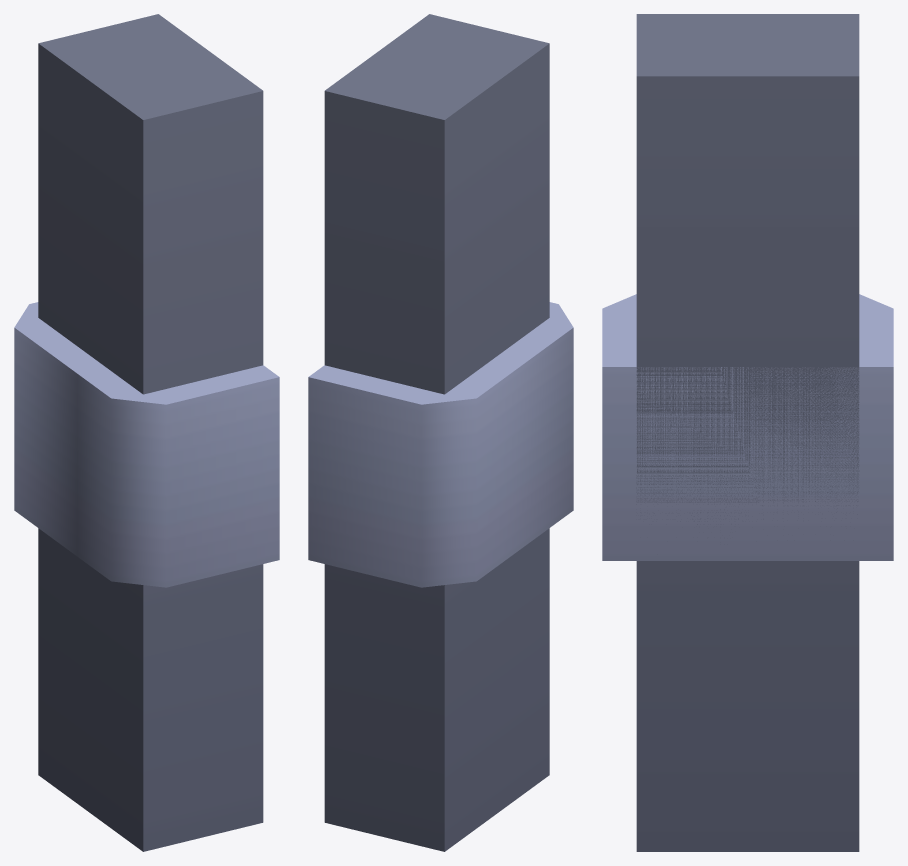
File: chimney.glb
3 renders of one model, left to right at view 1: azimuth 30°, elevation 25°; view 2: azimuth 150°, elevation 25°; view 3: azimuth 270°, elevation 25°, orthographic. The views are drawn at different scales.
Visible parts, largest first — view 1: chimney; view 2: chimney; view 3: chimney.
Boxes of the visible parts, bbox=[...] form: chimney: bbox=[14, 14, 279, 851]; chimney: bbox=[308, 14, 573, 851]; chimney: bbox=[602, 14, 893, 851].
Size of the model in its own units: 0.2119 by 1 by 0.34.
Materials: 1 (1 with a texture image).
